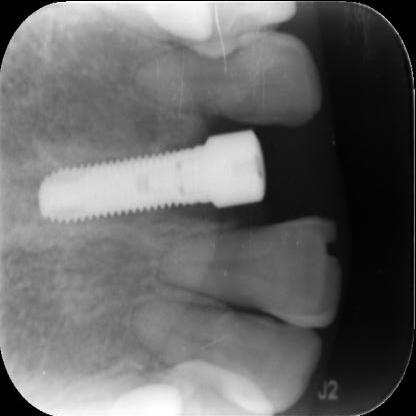Bego: (28, 126, 290, 238)
